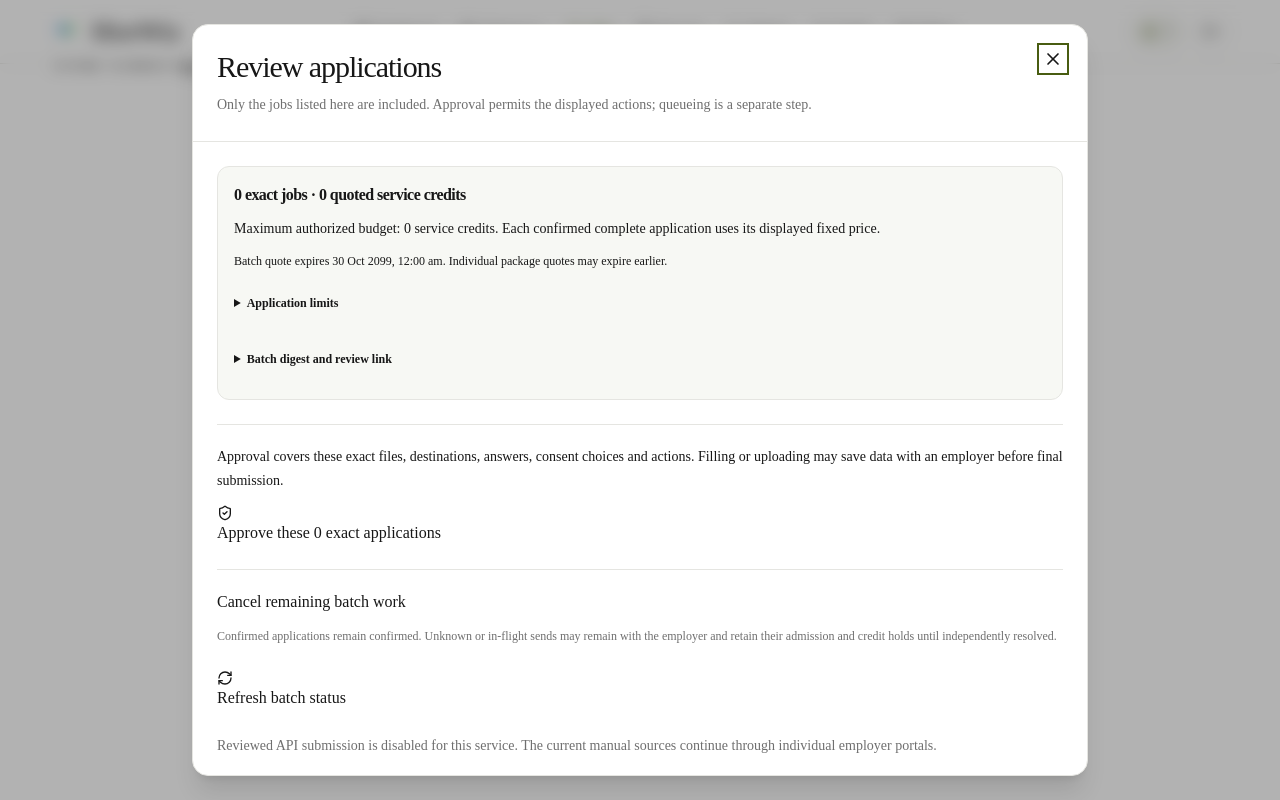
refreshes the batch data once without aborting or restarting the read
Click the button "Cancel remaining batch work" at (311, 602), box [217,590,406,614]
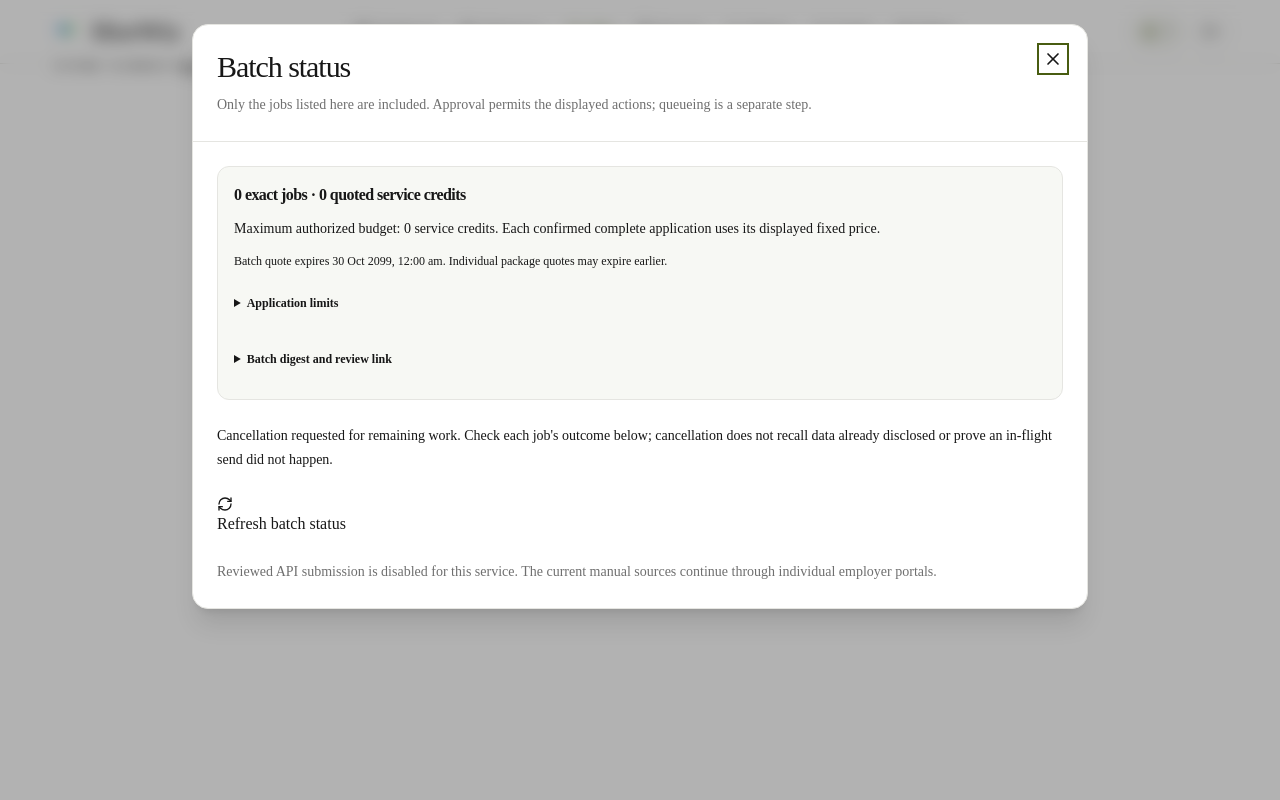
Result: the text "Cancellation requested for remaining work" is shown at [217,428,1052,467]
